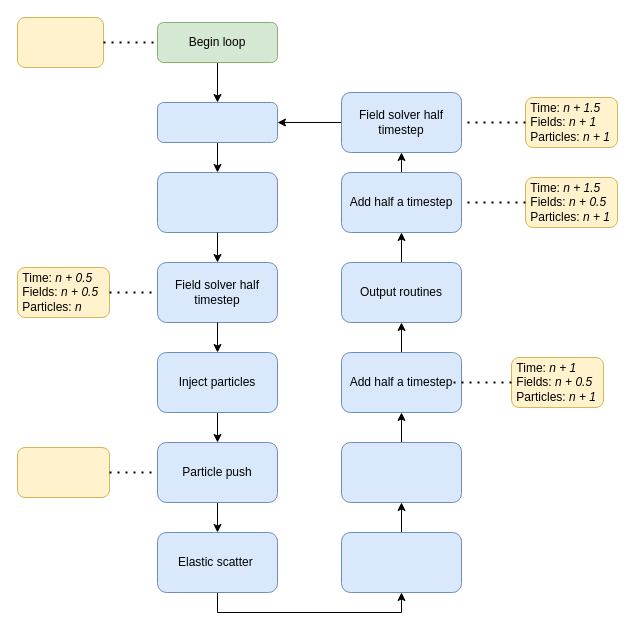
The diagram is 635 pixels wide and 638 high, and some of its shapes have lost their labels. The shapes that lost their labels are listed below. From the top down, each one's centre as x and y in pixels, then its label:
At point 60,42: "Time: n + 0.5 Fields: n Particles: n".
At point 217,122: "NCS radiation".
At point 217,202: "Bremsstrahlung radiation".
At point 63,472: "Time: n + 0.5 Fields: n + 0.5 Particles: n + 1".
At point 401,472: "Update resistivity".
At point 401,562: "Heating scripts".
